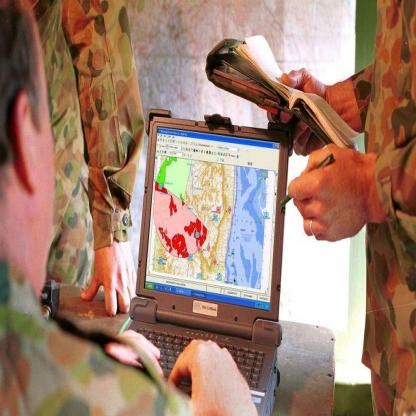board: (119, 119, 294, 416)
